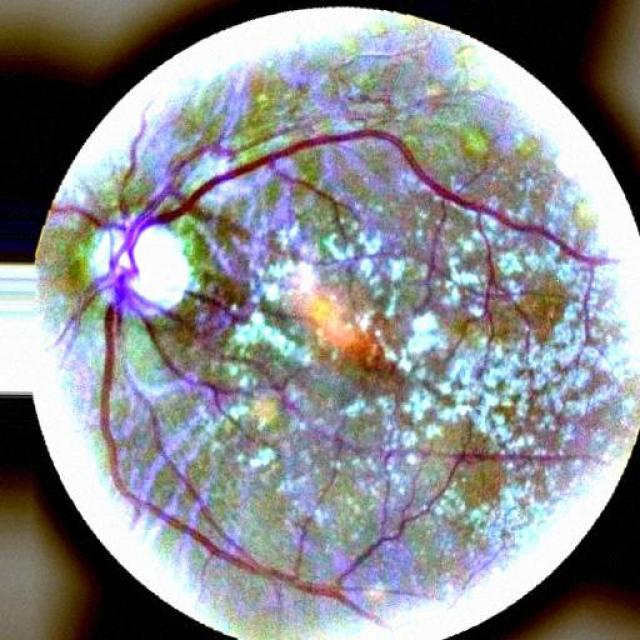Macula: (337, 314, 417, 398)
Nerves: (103, 240, 363, 603), (142, 286, 592, 475), (125, 130, 613, 270)
Optic Disk: (70, 207, 214, 333)
